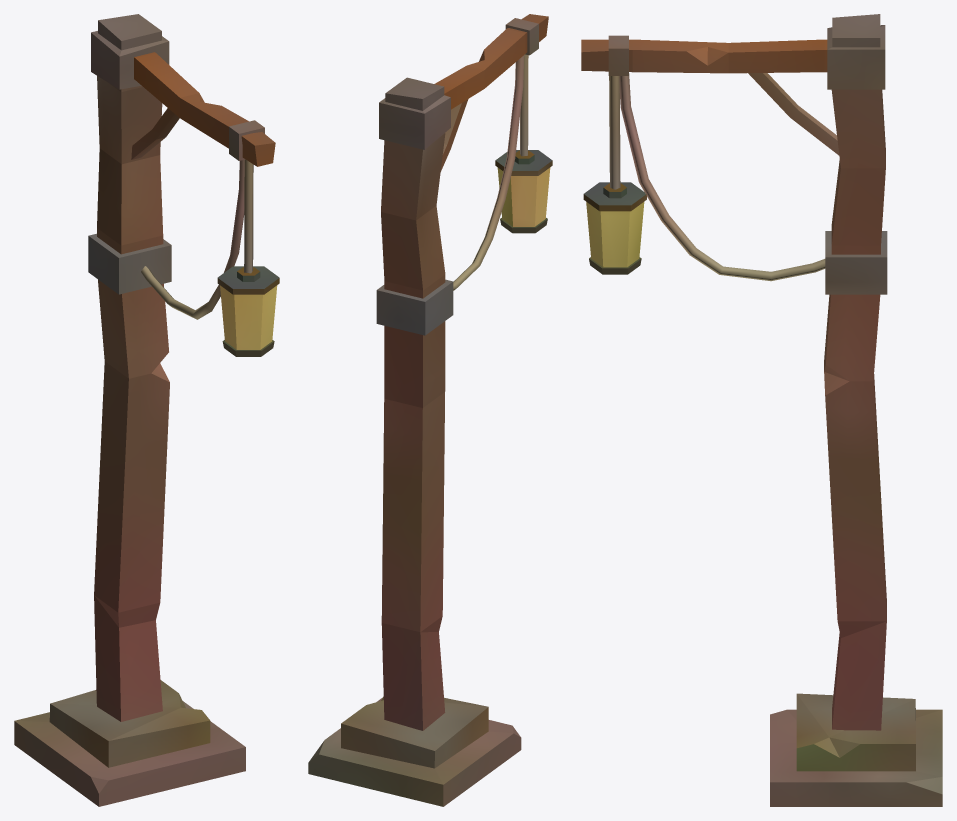
File: mega-pack-cube-287.glb
3 renders of one model, left to right at view 1: azimuth 30°, elevation 25°; view 2: azimuth 150°, elevation 25°; view 3: azimuth 270°, elevation 25°, orthographic. The views are drawn at different scales.
Parts seen in each view (by area): view 1: Cube.287; view 2: Cube.287; view 3: Cube.287.
Boxes of the visible parts, box(x1,y1,x2,y2) form: Cube.287: box(14, 14, 279, 806); Cube.287: box(308, 14, 552, 806); Cube.287: box(581, 14, 942, 806).
Bounding box in the file's own units: 0.3866 × 1.85 × 0.8095.
Materials: 1 (1 with a texture image).
